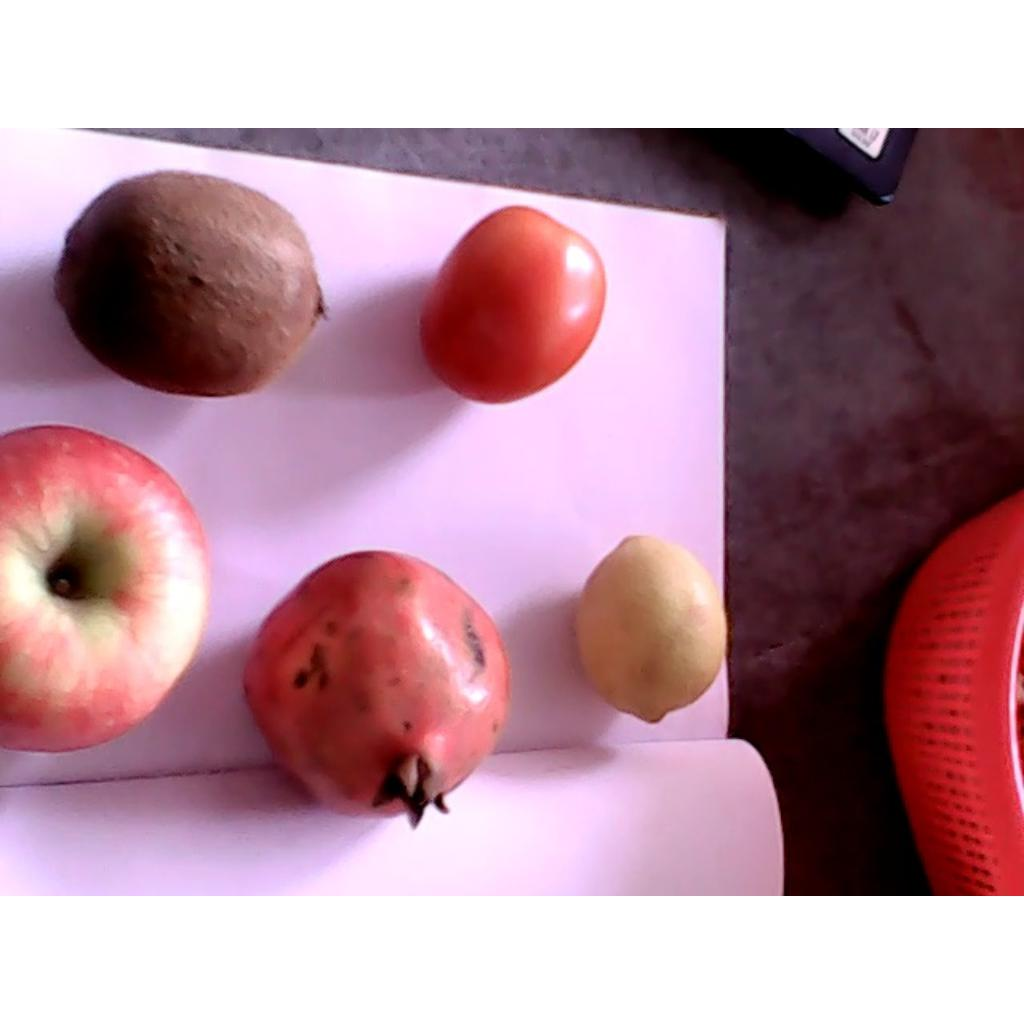apple: (1, 425, 213, 754)
kiwi: (53, 169, 327, 398)
lemon: (576, 533, 728, 725)
pomegranate: (244, 548, 513, 833)
tomato: (419, 204, 606, 404)
